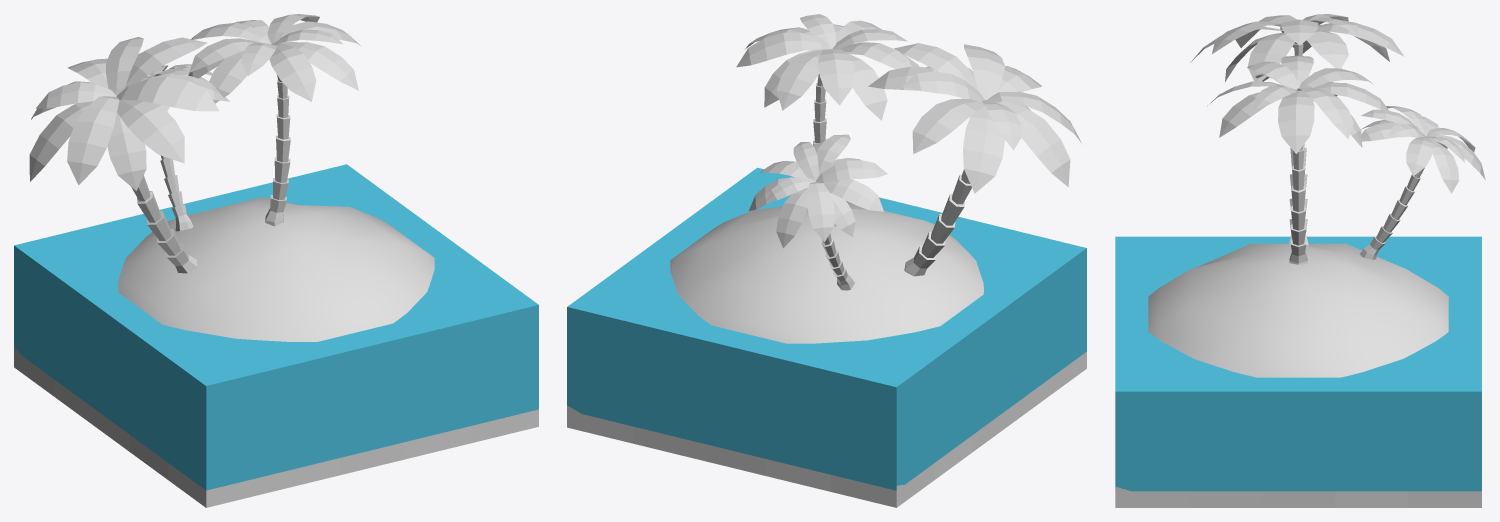
Rendered from Beach.fbx.
3 renders of one model, left to right at view 1: azimuth 30°, elevation 25°; view 2: azimuth 150°, elevation 25°; view 3: azimuth 270°, elevation 25°, orthographic. The views are drawn at different scales.
Parts seen in each view (by area): view 1: Island; view 2: Island; view 3: Island.
Boxes of the visible parts, x1,y1,x2,y2 form: Island: (14,14,538,507); Island: (567,14,1086,507); Island: (1115,14,1485,507).
Bounding box in the file's own units: 247 × 216 × 202.
